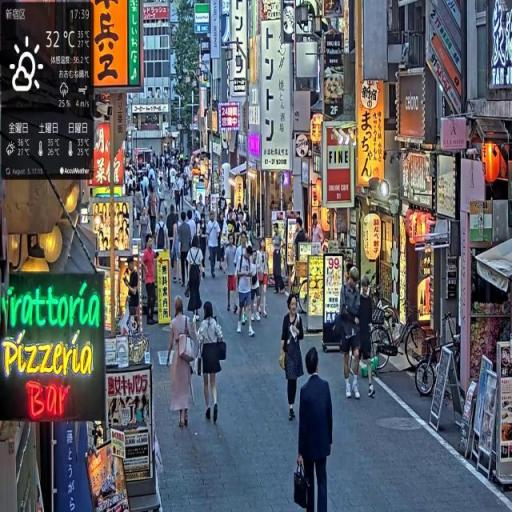person: (293, 345, 335, 512), (167, 295, 200, 433), (197, 300, 228, 424), (280, 294, 307, 424), (337, 268, 363, 401), (352, 276, 377, 400), (235, 237, 258, 340), (186, 236, 206, 328), (141, 236, 159, 329), (225, 232, 240, 317), (178, 211, 193, 292), (272, 224, 286, 297), (207, 209, 221, 282)
